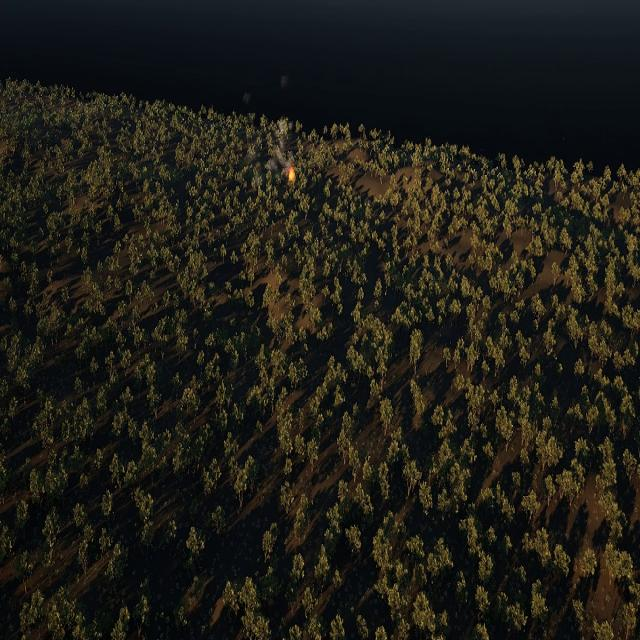fire: (287, 168, 295, 182)
smoke: (266, 132, 295, 173), (279, 72, 289, 89)
